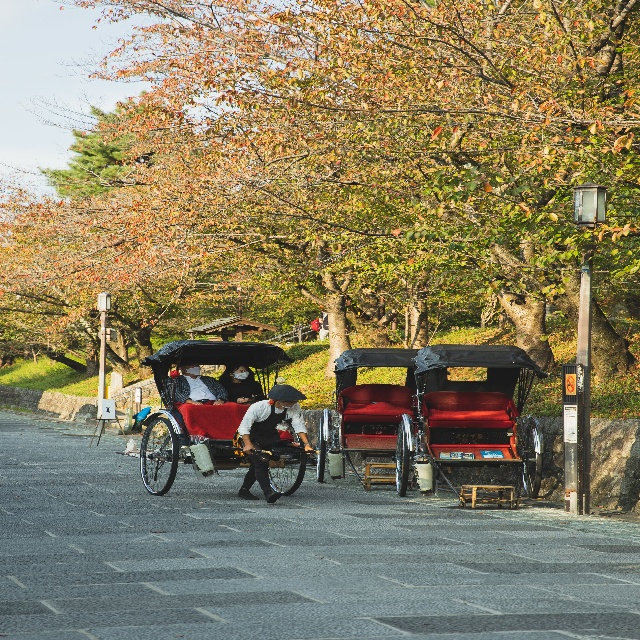Mascara: (181, 366, 201, 376), (231, 371, 249, 381), (279, 402, 298, 409)
Sin_guantes: (243, 444, 256, 455), (304, 444, 313, 455), (244, 394, 256, 402), (213, 399, 224, 406), (191, 400, 203, 406), (237, 396, 246, 404), (318, 317, 323, 323)
